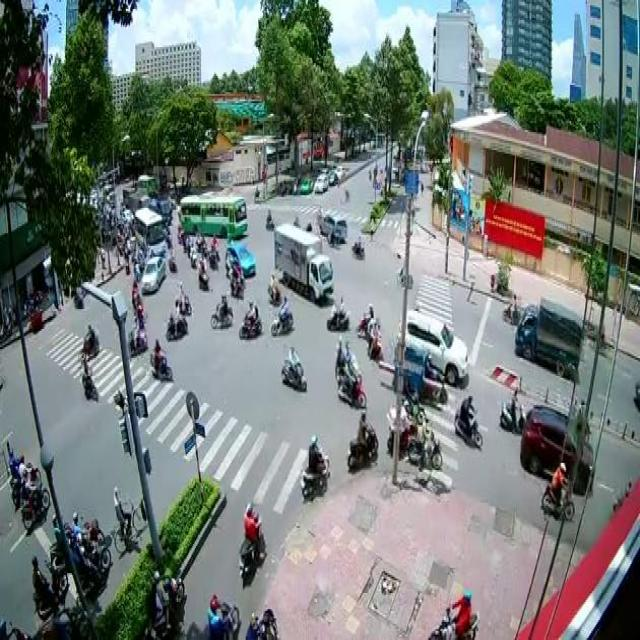bicycle: (111, 483, 145, 553)
bus: (179, 192, 247, 238), (132, 206, 167, 255)
car: (520, 402, 593, 494), (223, 238, 256, 274), (140, 253, 166, 291), (319, 212, 345, 240)
motorcycle: (401, 307, 468, 385), (141, 568, 184, 638), (72, 528, 111, 598), (29, 552, 68, 620), (237, 499, 266, 589), (345, 407, 379, 472), (299, 432, 331, 497), (405, 416, 442, 470), (384, 396, 417, 456), (20, 468, 50, 528), (204, 593, 239, 640), (453, 394, 483, 448), (336, 356, 366, 409), (279, 346, 307, 392), (499, 387, 525, 434), (269, 295, 295, 338), (163, 294, 186, 342), (148, 334, 172, 380), (8, 443, 25, 504), (237, 298, 261, 338), (354, 300, 380, 336), (208, 291, 234, 327), (326, 293, 350, 331), (79, 354, 98, 402), (124, 315, 146, 356), (366, 314, 384, 362), (77, 322, 99, 358), (174, 278, 192, 314), (196, 255, 207, 289), (351, 232, 364, 260)
truck: (512, 291, 581, 380), (272, 218, 334, 304)
